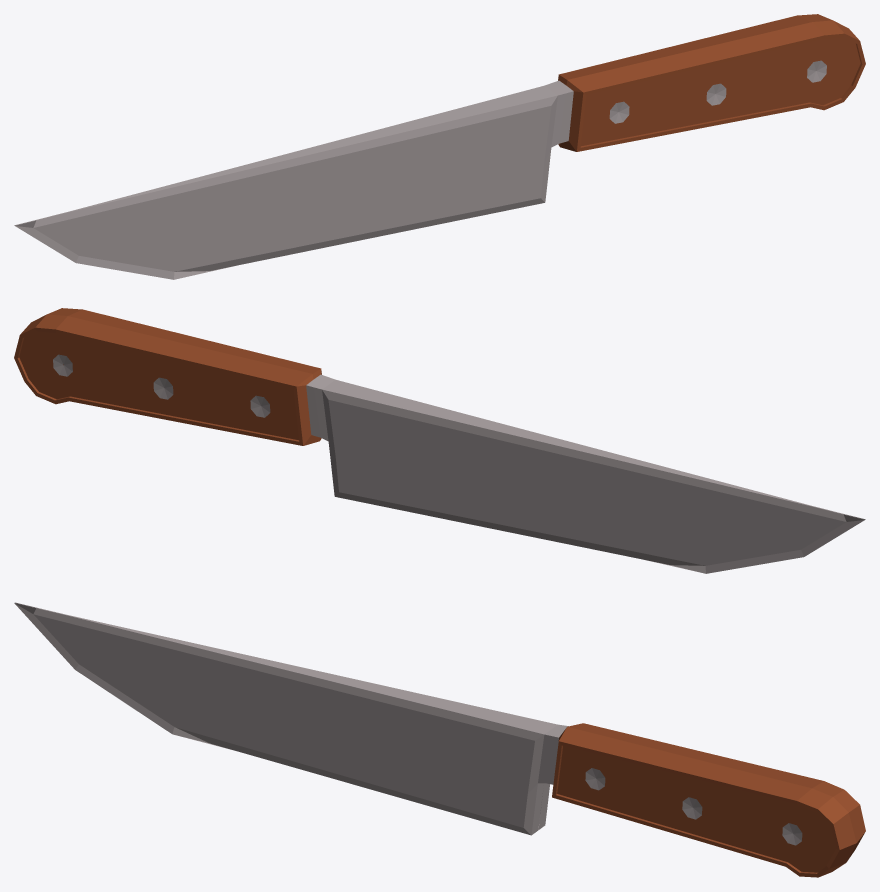
The model's file is Knife.fbx.
The picture shows the model from 3 angles, top to bottom: view 1: azimuth 30°, elevation 25°; view 2: azimuth 150°, elevation 25°; view 3: azimuth 330°, elevation 25°; orthographic projection.
Parts seen in each view (by area): view 1: Cube; view 2: Cube; view 3: Cube.
Boxes of the visible parts, x1,y1,x2,y2 form: Cube: [14, 14, 865, 279]; Cube: [14, 308, 865, 573]; Cube: [14, 602, 865, 877].
Bounding box in the file's own units: 0.2142 × 0.0269 × 0.012.
